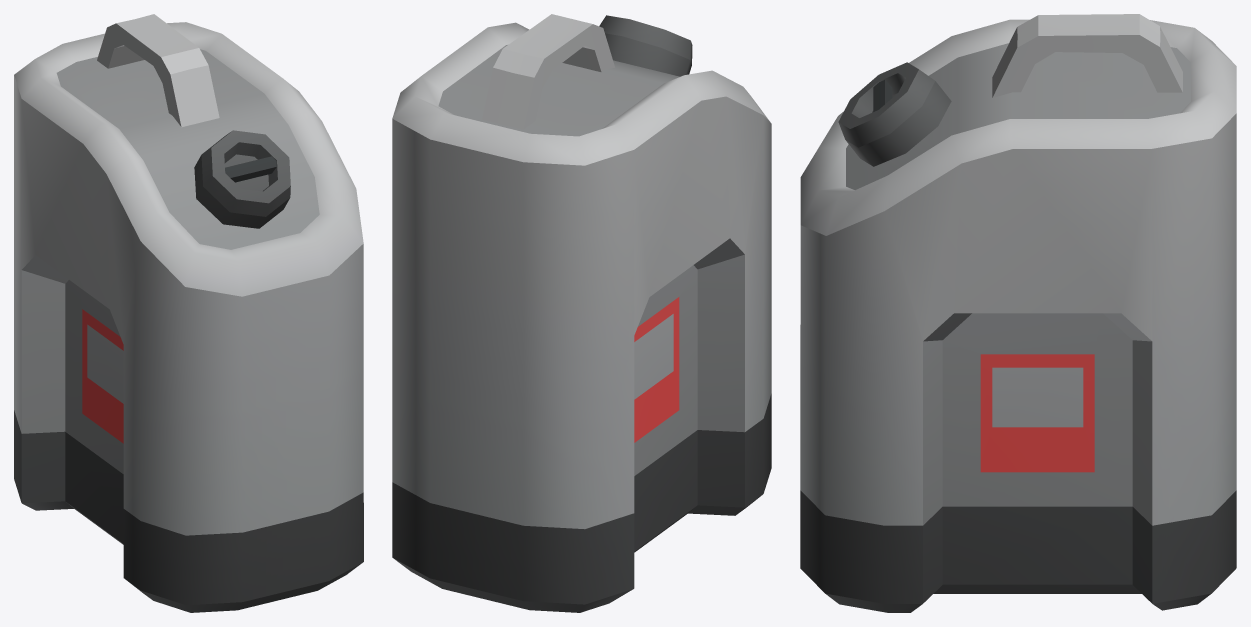
The model's file is Gas_can_013.fbx.
3 views of the same model, side by side, from view 1: azimuth 30°, elevation 25°; view 2: azimuth 150°, elevation 25°; view 3: azimuth 270°, elevation 25° (orthographic). The views are drawn at different scales.
Parts seen in each view (by area): view 1: Gas_can_013; view 2: Gas_can_013; view 3: Gas_can_013.
Part boxes in pixels (<box>): Gas_can_013: <box>14,14,363,612</box>; Gas_can_013: <box>392,14,771,612</box>; Gas_can_013: <box>800,14,1236,612</box>.
Size of the model in its own units: 20.83 by 32.43 by 44.06.
